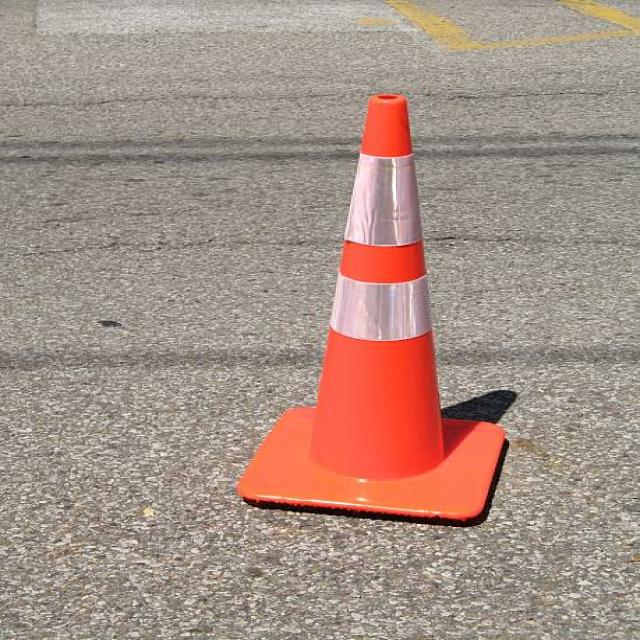Traffic Cone: (158, 75, 562, 552)
